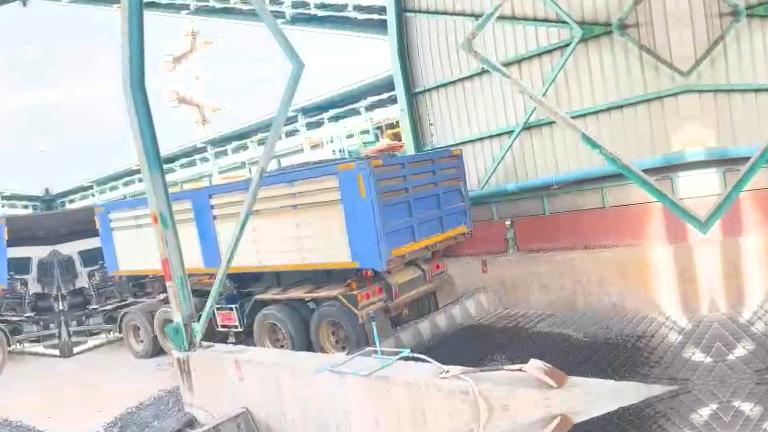gravel: (96, 387, 199, 432)
